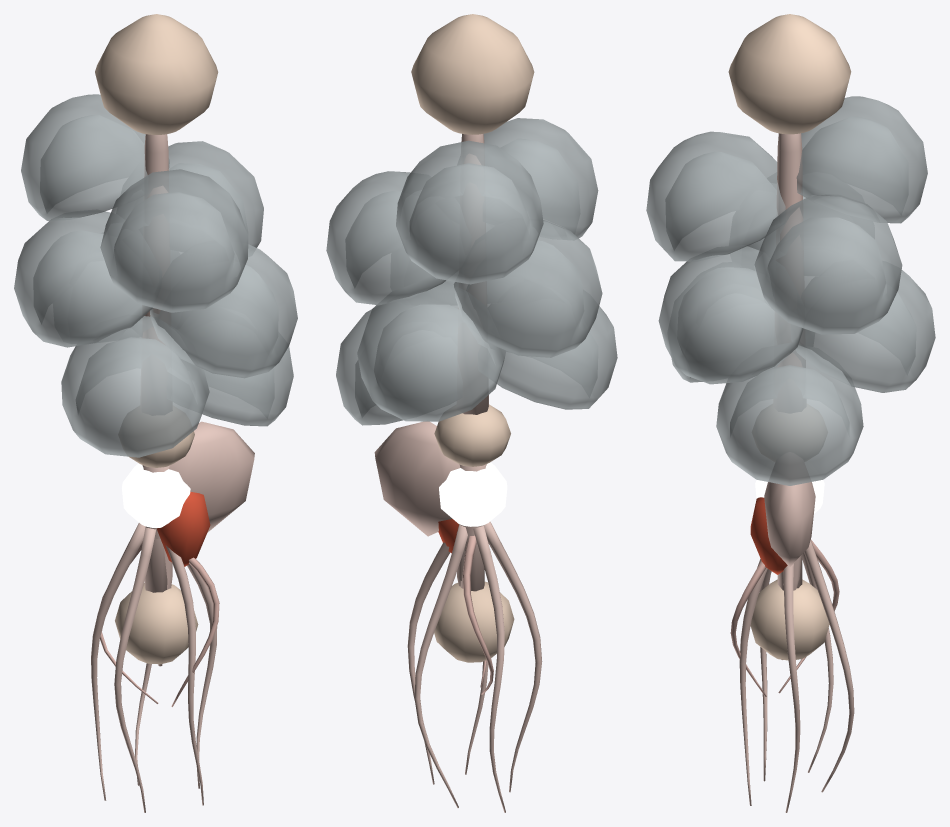
The model's file is sifonoforo.glb.
3 views of the same model, side by side, from view 1: azimuth 30°, elevation 25°; view 2: azimuth 150°, elevation 25°; view 3: azimuth 270°, elevation 25° (orthographic).
Visible parts, largest first — view 1: Flotador y ocho campanas, Cormidio reutilizable, Remate y filamentos terminales, Farol del cormidio; view 2: Flotador y ocho campanas, Cormidio reutilizable, Remate y filamentos terminales, Farol del cormidio; view 3: Flotador y ocho campanas, Cormidio reutilizable, Remate y filamentos terminales.
Part boxes in pixels (x1,y1,x2,y2): Flotador y ocho campanas: (14, 14, 297, 467); Cormidio reutilizable: (99, 421, 254, 706); Remate y filamentos terminales: (91, 465, 217, 812); Farol del cormidio: (122, 463, 190, 527); Flotador y ocho campanas: (326, 14, 617, 466); Cormidio reutilizable: (374, 421, 514, 694); Remate y filamentos terminales: (407, 464, 542, 812); Farol del cormidio: (439, 462, 507, 526); Flotador y ocho campanas: (646, 14, 935, 485); Cormidio reutilizable: (730, 482, 839, 696); Remate y filamentos terminales: (739, 539, 854, 812).
Bounding box in the file's own units: 0.5925 × 1.75 × 0.5892.
